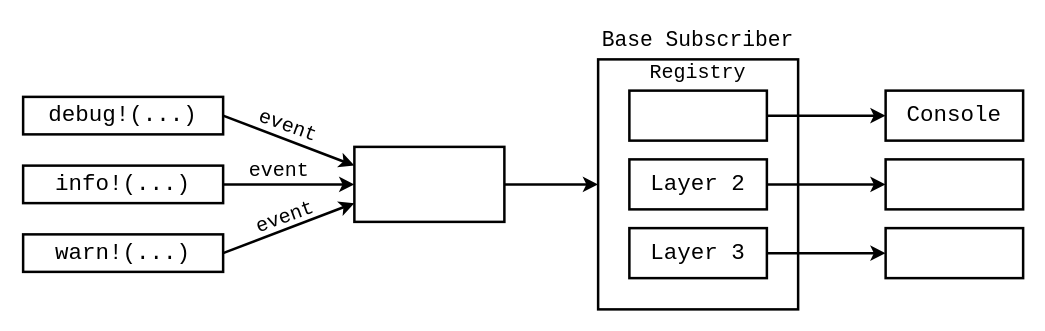
The diagram is 1045 pixels wide and 331 high, and some of its shapes have lost their labels. Each missing label, with the centre of its shape:
File 1: point (954, 184)
File 2: point (954, 252)
global dispatcher: point (428, 183)
Layer 1: point (698, 115)
